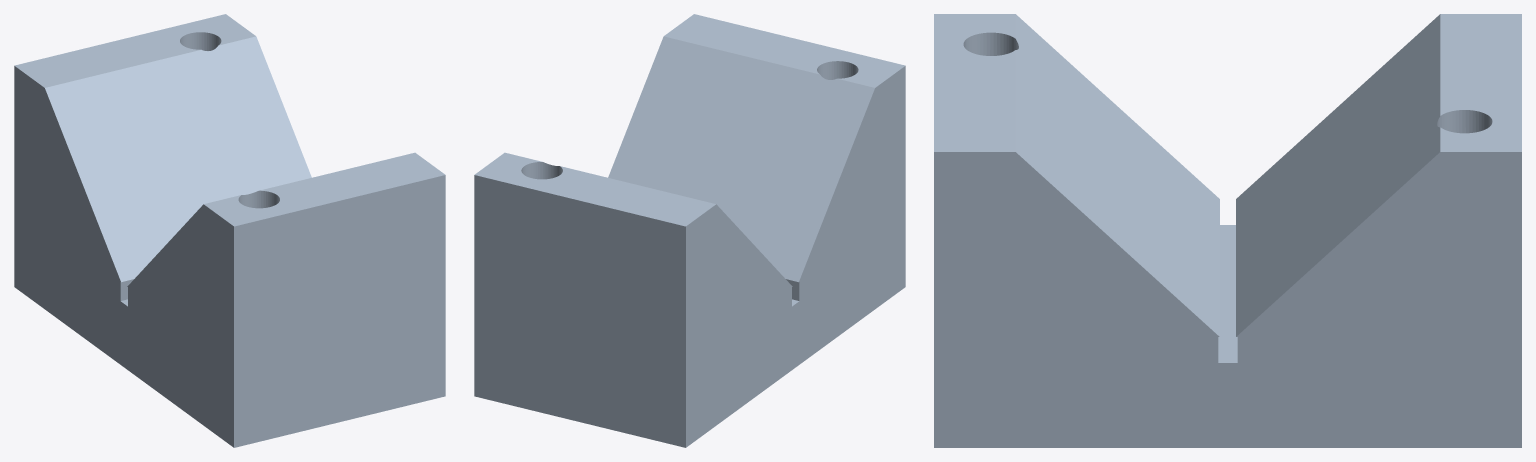
The picture shows the model from 3 angles, left to right: view 1: azimuth 30°, elevation 25°; view 2: azimuth 150°, elevation 25°; view 3: azimuth 270°, elevation 25°; orthographic projection. The views are drawn at different scales.
Parts seen in each view (by area): view 1: p01; view 2: p01; view 3: p01.
Boxes of the visible parts, x1,y1,x2,y2 form: p01: (14, 14, 445, 447); p01: (474, 14, 905, 447); p01: (934, 14, 1521, 447).
Bounding box in the file's own units: 0.04 × 0.04 × 0.072.
